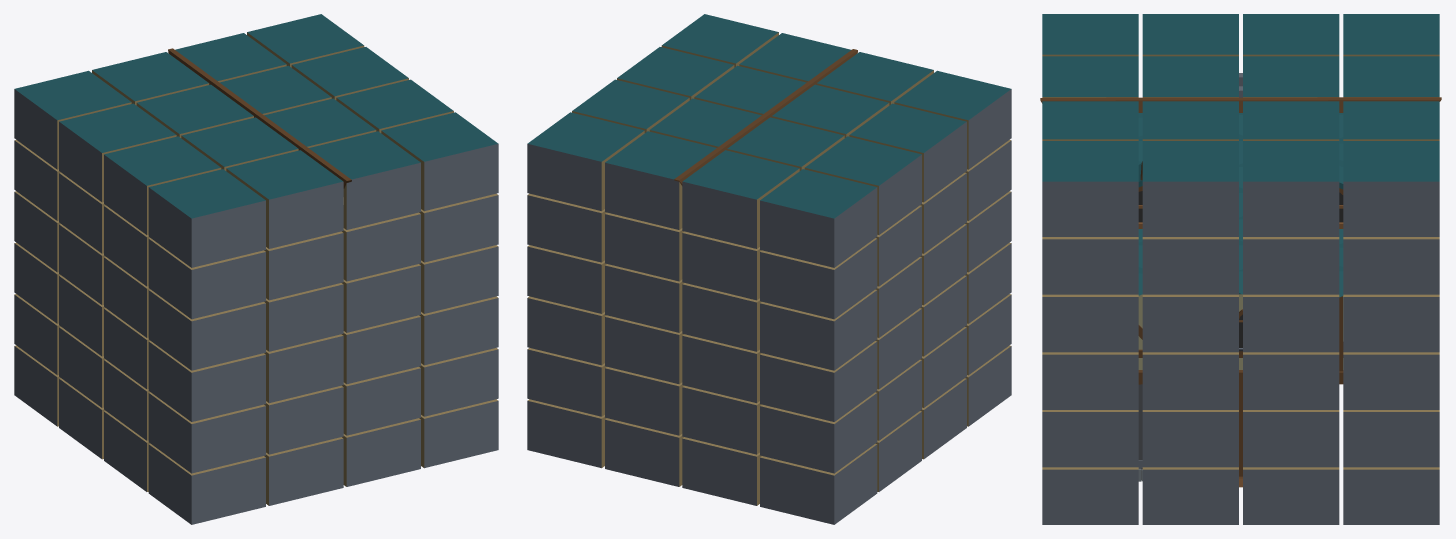
The model's file is House_2_destructible.gltf.
The picture shows the model from 3 angles, left to right: view 1: azimuth 30°, elevation 25°; view 2: azimuth 150°, elevation 25°; view 3: azimuth 270°, elevation 25°; orthographic projection. The views are drawn at different scales.
Visible parts, largest first — view 1: block_f5_r3_c0, block_f5_r3_c2, block_f5_r3_c1, block_f5_r3_c3, block_f4_r3_c0, block_f0_r3_c0, block_f1_r3_c0, block_f2_r3_c0, block_f3_r3_c0, block_f5_r0_c0, block_f5_r1_c0, block_f5_r2_c0 (+39 smaller); view 2: block_f5_r0_c0, block_f5_r0_c2, block_f5_r0_c3, block_f5_r0_c1, block_f4_r0_c0, block_f0_r0_c0, block_f1_r0_c0, block_f2_r0_c0, block_f3_r0_c0, block_f5_r3_c0, block_f5_r2_c0, block_f5_r1_c0 (+39 smaller); view 3: block_f5_r0_c3, block_f5_r1_c3, block_f5_r2_c3, block_f5_r3_c3, block_f3_r2_c3, block_f3_r1_c3, block_f3_r3_c3, block_f3_r0_c3, block_f1_r1_c3, block_f1_r2_c3, block_f1_r3_c3, block_f1_r0_c3 (+24 smaller).
Boxes of the visible parts, box(x1,y1,x2,y2) form: block_f5_r3_c0: box(148, 169, 265, 267); block_f5_r3_c2: box(301, 131, 420, 229); block_f5_r3_c1: box(226, 150, 344, 248); block_f5_r3_c3: box(381, 112, 498, 211); block_f4_r3_c0: box(148, 238, 265, 319); block_f0_r3_c0: box(148, 443, 265, 524); block_f1_r3_c0: box(148, 392, 265, 473); block_f2_r3_c0: box(148, 341, 265, 421); block_f3_r3_c0: box(148, 289, 265, 370); block_f5_r0_c0: box(14, 70, 131, 169); block_f5_r1_c0: box(59, 103, 176, 202); block_f5_r2_c0: box(104, 136, 221, 234); block_f5_r0_c0: box(760, 169, 877, 267); block_f5_r0_c2: box(605, 131, 724, 229); block_f5_r0_c3: box(527, 112, 644, 211); block_f5_r0_c1: box(682, 150, 799, 248); block_f4_r0_c0: box(760, 238, 877, 319); block_f0_r0_c0: box(760, 443, 877, 524); block_f1_r0_c0: box(760, 392, 877, 473); block_f2_r0_c0: box(760, 341, 877, 421); block_f3_r0_c0: box(760, 289, 877, 370); block_f5_r3_c0: box(894, 70, 1011, 169); block_f5_r2_c0: box(849, 103, 966, 202); block_f5_r1_c0: box(804, 136, 921, 234); block_f5_r0_c3: box(1343, 141, 1439, 236); block_f5_r1_c3: box(1243, 141, 1339, 236); block_f5_r2_c3: box(1142, 141, 1238, 236); block_f5_r3_c3: box(1042, 141, 1138, 236); block_f3_r2_c3: box(1140, 264, 1240, 352); block_f3_r1_c3: box(1241, 264, 1341, 352); block_f3_r3_c3: box(1042, 264, 1140, 352); block_f3_r0_c3: box(1341, 266, 1439, 352); block_f1_r1_c3: box(1241, 371, 1341, 467); block_f1_r2_c3: box(1140, 371, 1240, 467); block_f1_r3_c3: box(1042, 371, 1140, 467); block_f1_r0_c3: box(1341, 371, 1439, 467).
Bounding box in the file's own units: 9.4 × 9.03 × 9.5.
